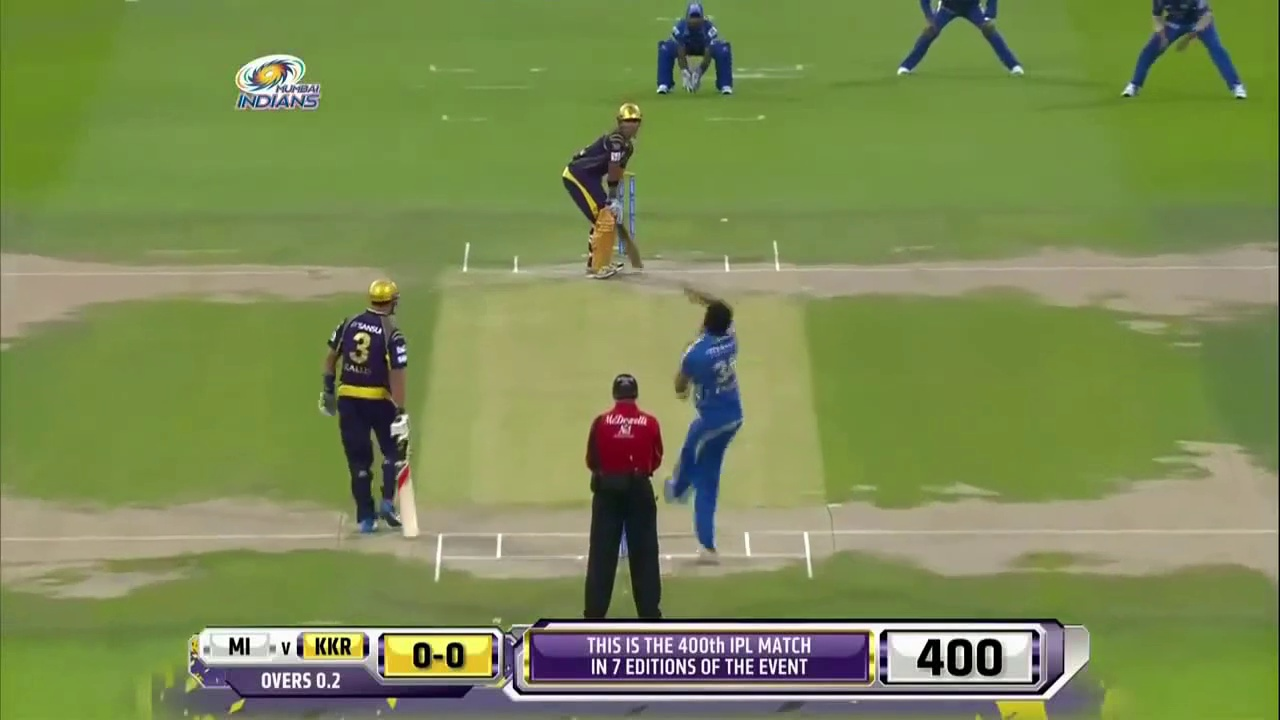bat: (394, 457, 420, 539), (619, 225, 646, 271)
